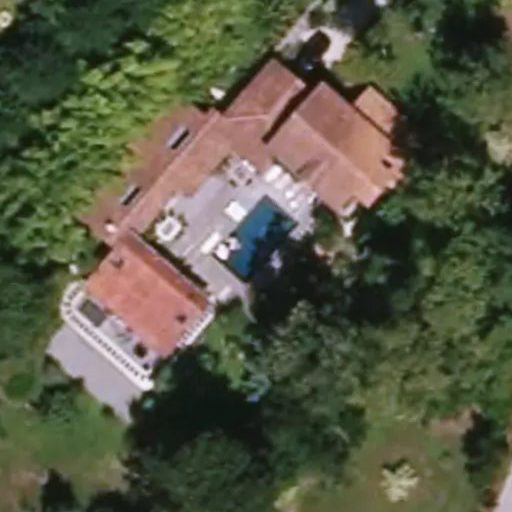pool: (212, 193, 299, 285)
